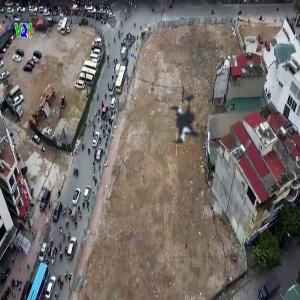drone: (136, 71, 238, 173)
